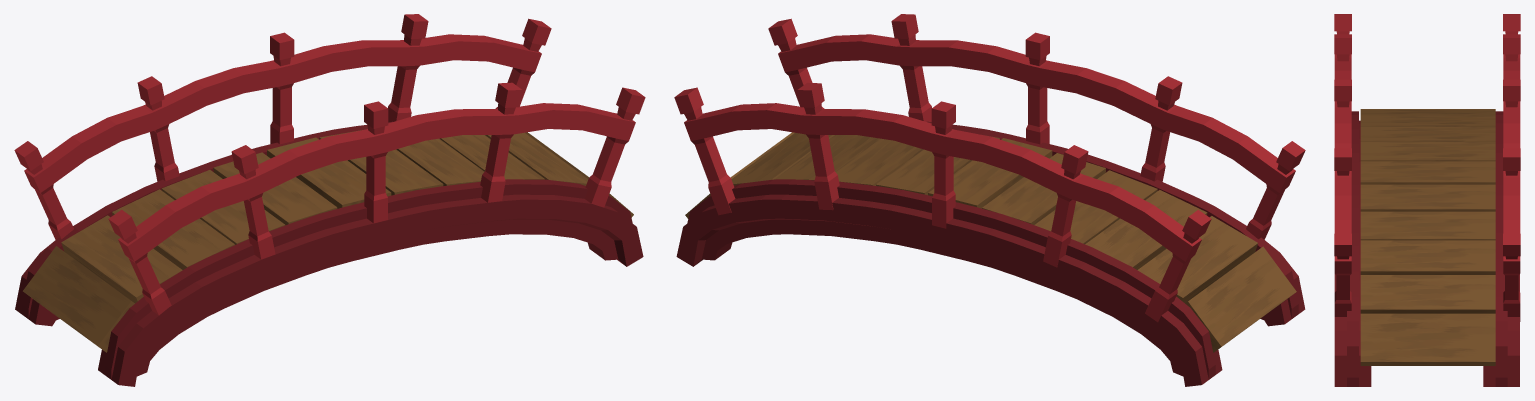
File: ponteComum.fbx
The picture shows the model from 3 angles, left to right: view 1: azimuth 30°, elevation 25°; view 2: azimuth 150°, elevation 25°; view 3: azimuth 270°, elevation 25°; orthographic projection. The views are drawn at different scales.
Parts seen in each view (by area): view 1: Circle; view 2: Circle; view 3: Circle.
Part boxes in pixels (left/top/right/bottom): Circle: left=14, top=14, right=645, bottom=386; Circle: left=674, top=14, right=1305, bottom=386; Circle: left=1334, top=14, right=1520, bottom=386.
Bounding box in the file's own units: 756 × 292 × 253.
3 materials, 3 textured.
